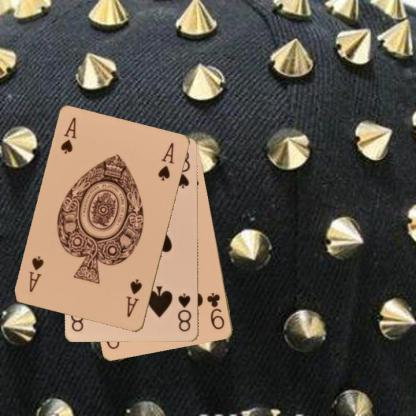8s: (175, 290, 193, 332)
9c: (204, 290, 226, 331)
As: (124, 276, 144, 319), (58, 115, 78, 156)
